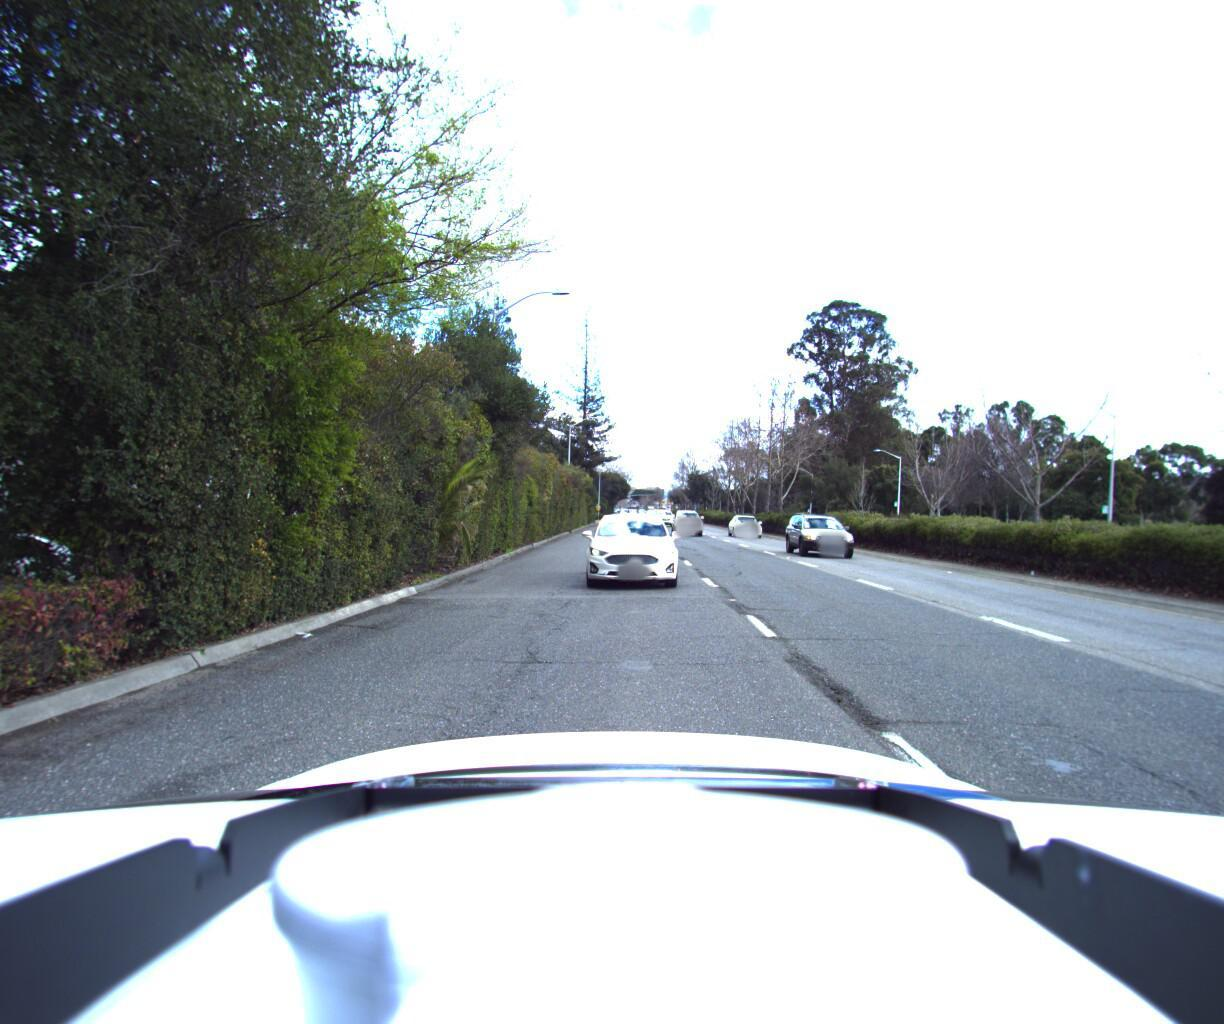car: (0, 525, 97, 658), (574, 509, 690, 605), (787, 513, 873, 565), (727, 511, 770, 541), (669, 508, 707, 540), (614, 507, 646, 535), (652, 510, 675, 529)
